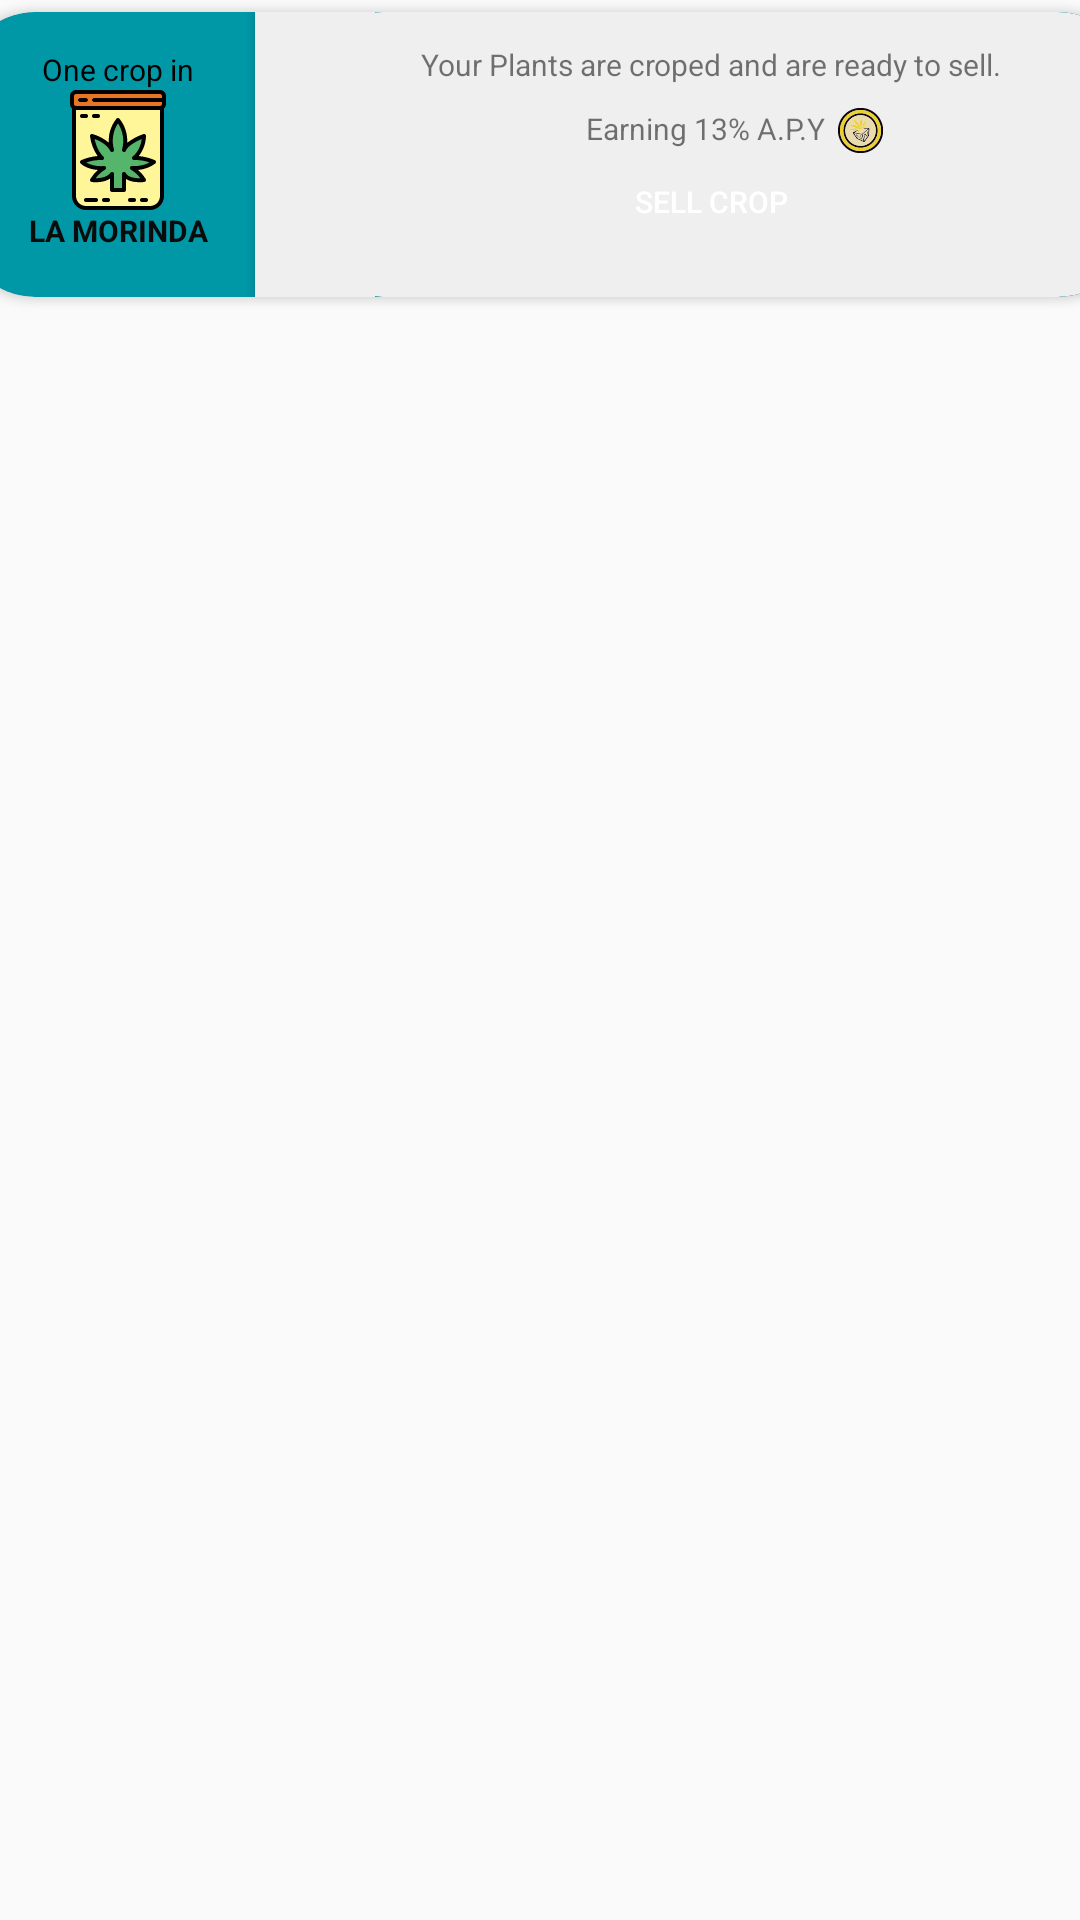

Icons on this 1080 × 1920 Android screen, each with its box as (x1, y1, x2, y2):
bca token: (838, 108, 883, 153)
cannabis croped: (70, 90, 166, 210)
